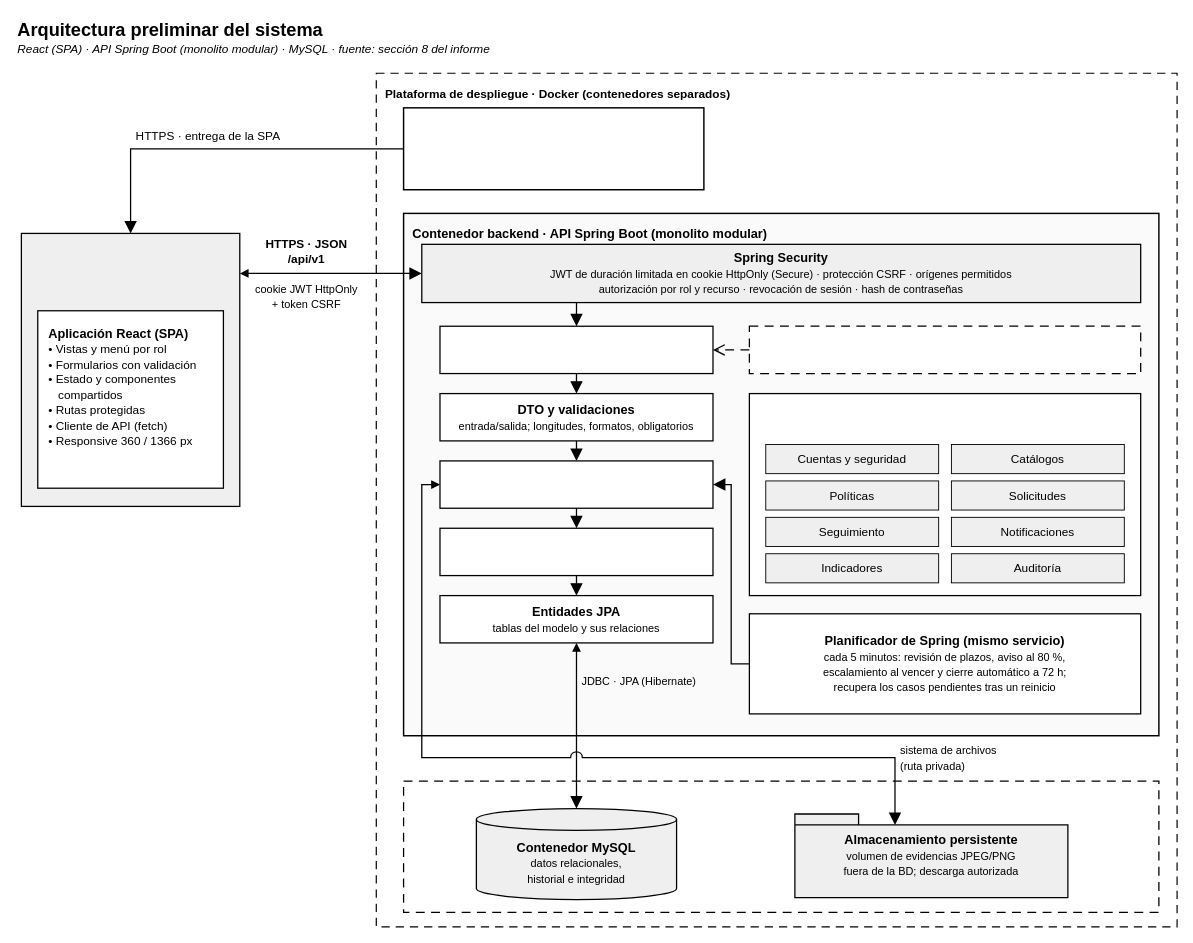
Some shapes in this 1193 by 943 pixel diagram are drawn without their labels. The box of each missing label's shape, as (x1, y1, x2, y2) in pixels:
Contenedor frontend servidor web estático con la build de React (HTML, JS, CSS): (402, 107, 704, 190)
Controladores REST reciben la petición y delegan; sin reglas: (439, 325, 713, 374)
Módulos por épica (cada módulo atraviesa las cinco capas): (748, 392, 1141, 596)
Navegador web (solicitante, técnico, supervisor, administrador): (20, 232, 240, 507)
OpenAPI contrato de rutas, campos, respuestas y errores: (748, 325, 1141, 374)
Red privada (sin acceso público): (402, 780, 1159, 912)
Repositorios (Spring Data JPA) consultas, filtros y paginación: (439, 527, 713, 576)
Servicios reglas, transiciones, plazos, versión, transacciones: (439, 460, 713, 508)
